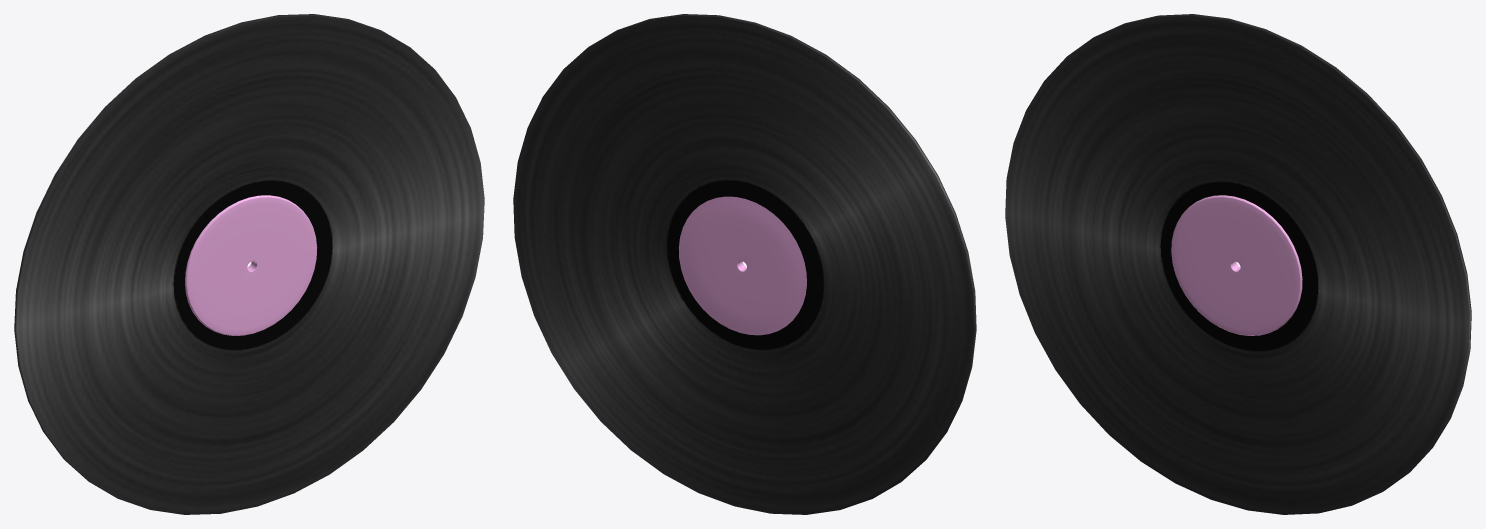
Rendered from Vinyl_05.fbx.
3 renders of one model, left to right at view 1: azimuth 30°, elevation 25°; view 2: azimuth 150°, elevation 25°; view 3: azimuth 330°, elevation 25°, orthographic.
Parts seen in each view (by area): view 1: Vinyl3; view 2: Vinyl3; view 3: Vinyl3.
Part boxes in pixels (x1=…): Vinyl3: x1=14, y1=14, x2=484, y2=514; Vinyl3: x1=513, y1=14, x2=976, y2=514; Vinyl3: x1=1005, y1=14, x2=1471, y2=514.
Size of the model in its own units: 3.14 by 0.0727 by 3.14.
Materials: 2 (1 with a texture image).
